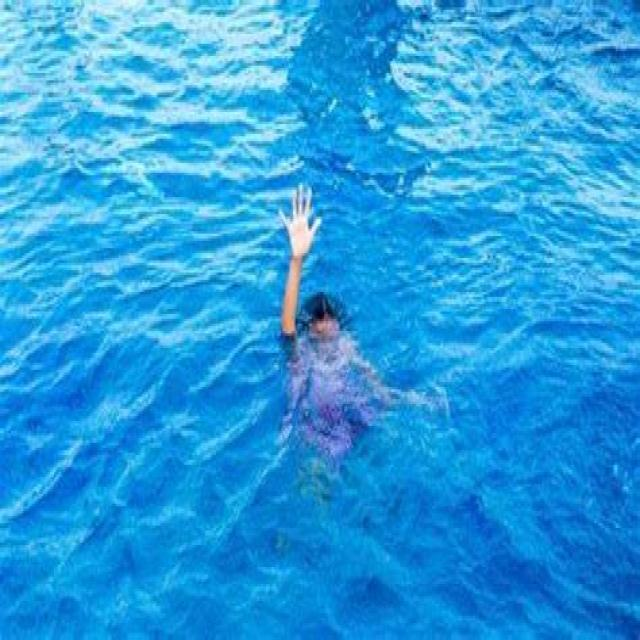Drowning: (266, 189, 394, 442)
